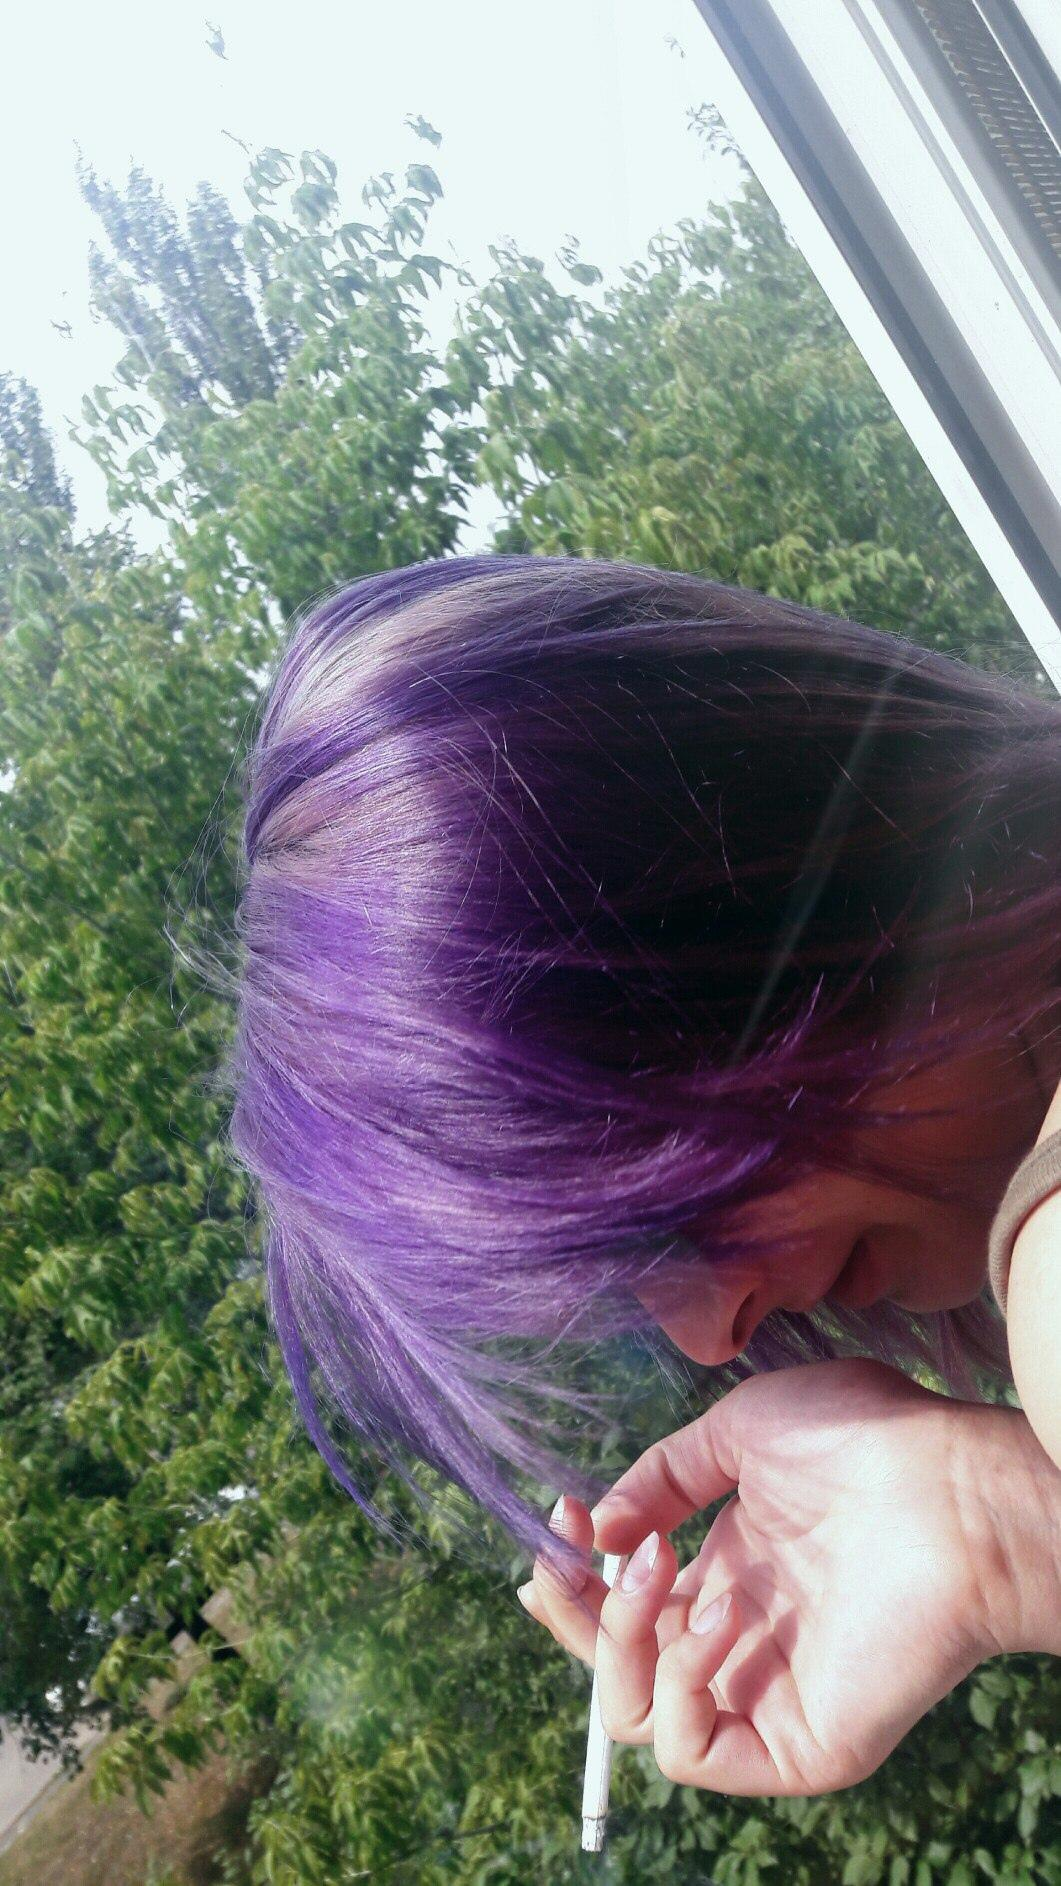cigarette: (580, 1552, 630, 1852)
